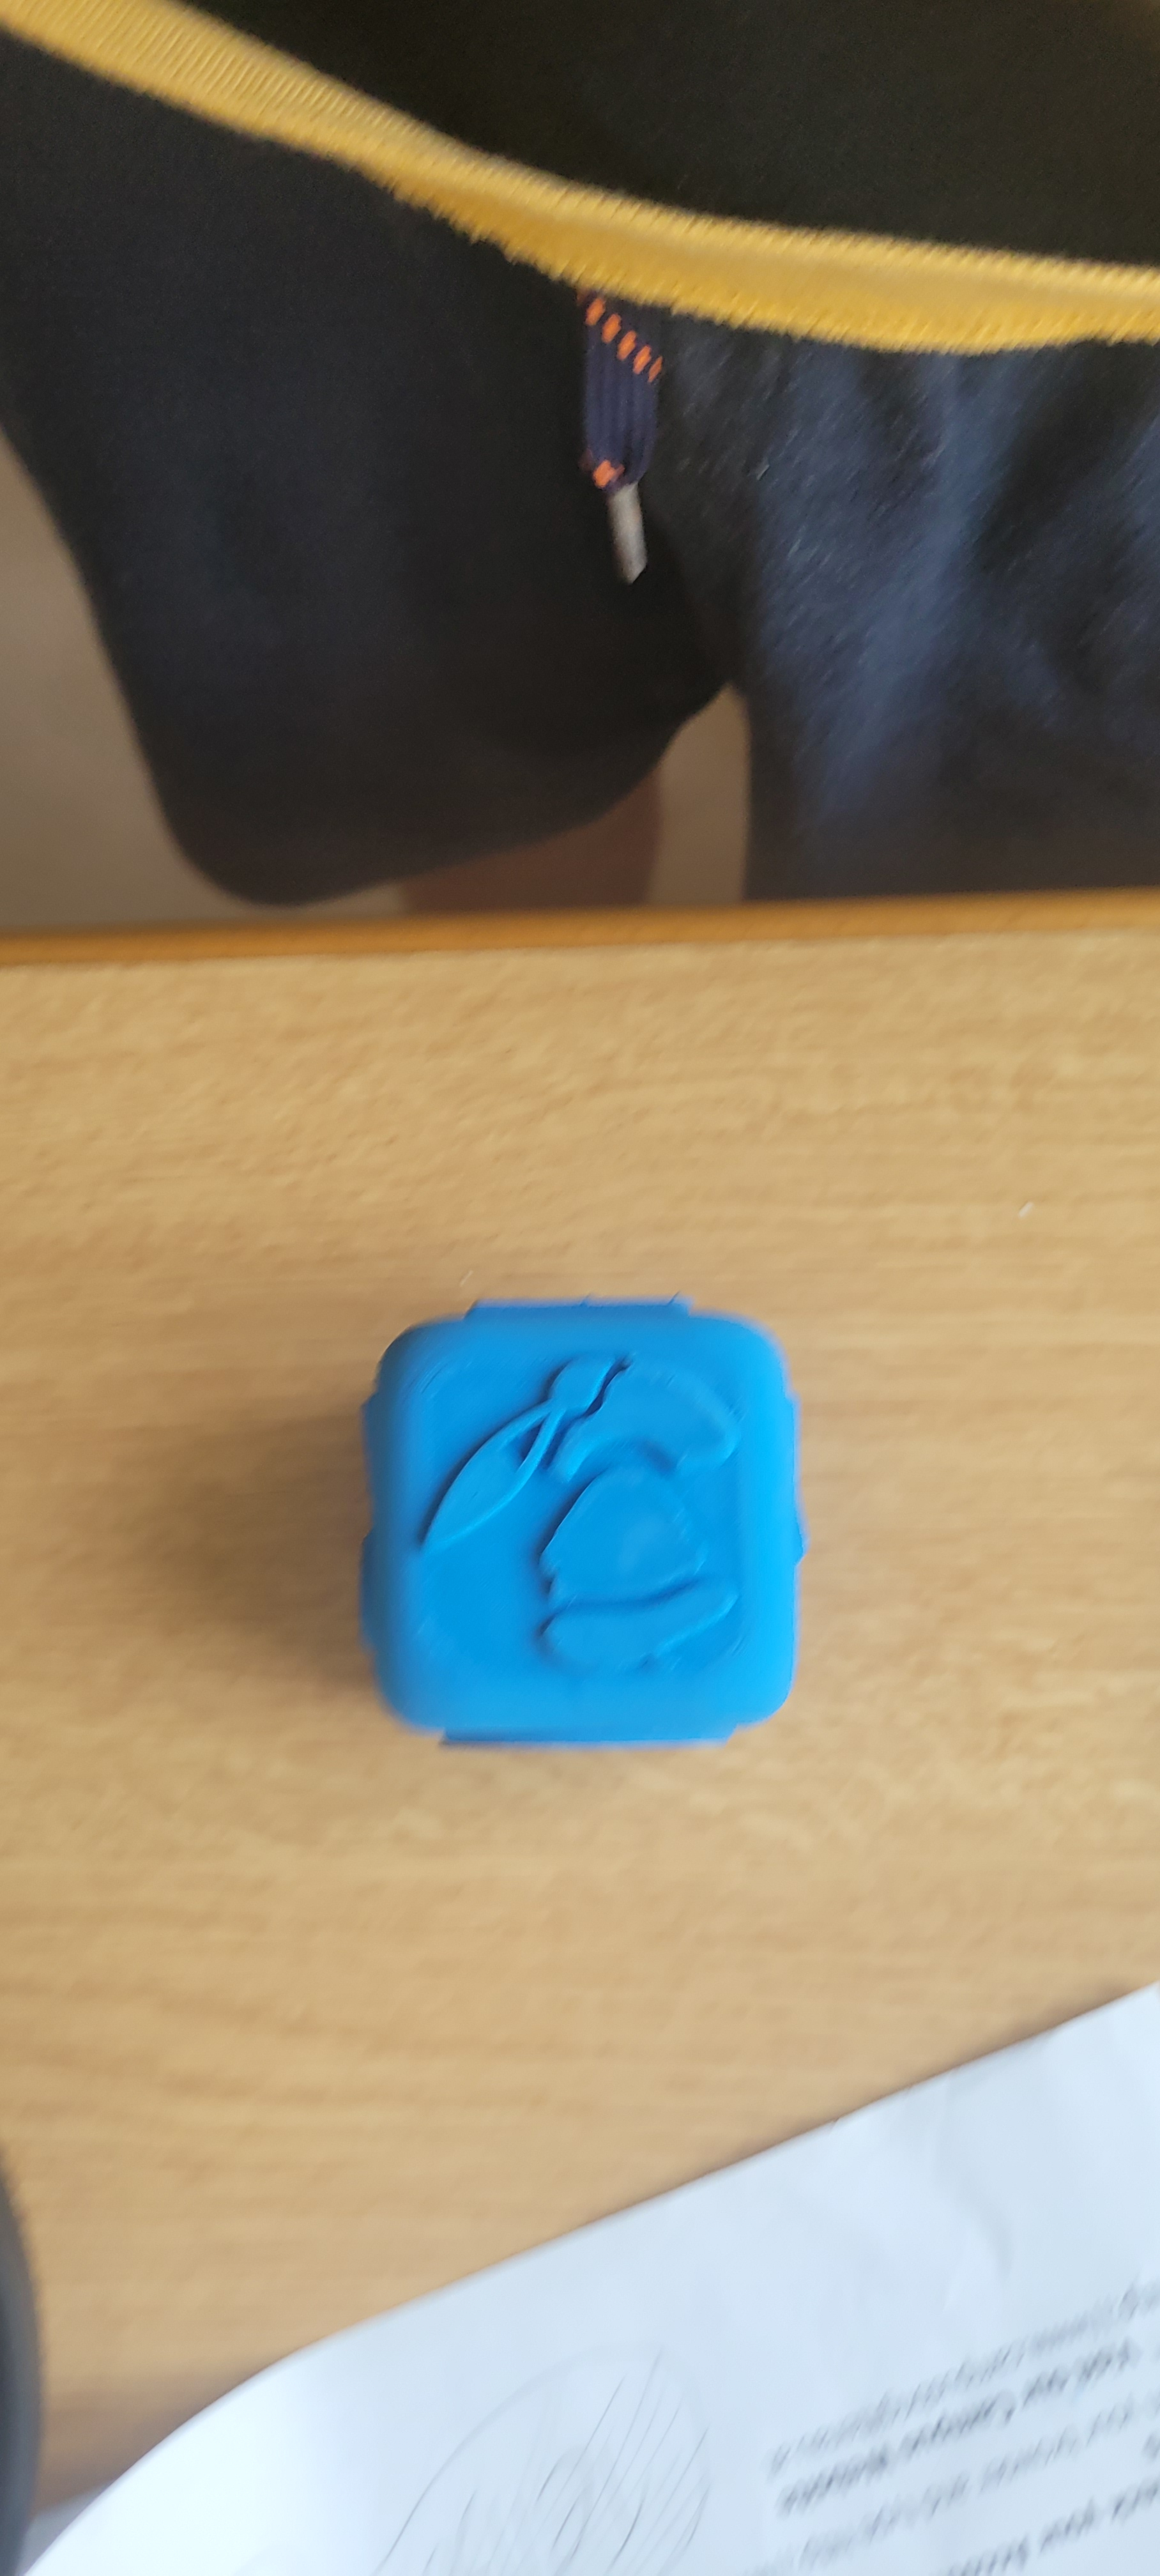Artist_Info: (340, 1262, 841, 1745)
